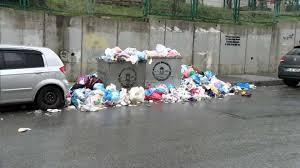Container: (97, 57, 146, 90), (146, 58, 183, 90)
Garbage: (184, 60, 259, 104), (72, 64, 100, 116), (100, 89, 203, 103), (100, 44, 182, 57), (107, 45, 144, 60), (145, 46, 176, 57), (130, 87, 144, 107), (240, 80, 262, 92), (102, 91, 121, 103), (223, 84, 236, 96), (110, 46, 124, 57), (150, 94, 164, 105), (167, 92, 182, 102), (123, 48, 137, 58), (154, 44, 167, 54), (149, 92, 163, 101), (156, 44, 167, 55), (203, 68, 212, 77), (241, 90, 250, 98)
